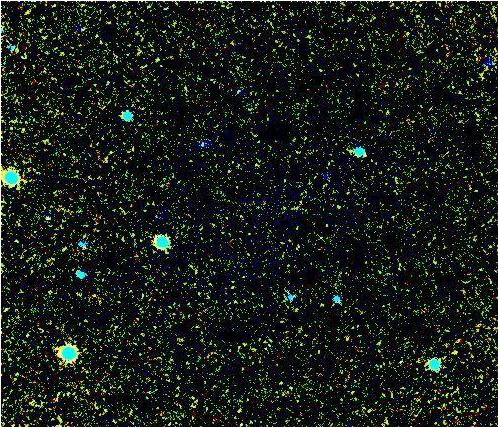star: (160, 331, 190, 361)
